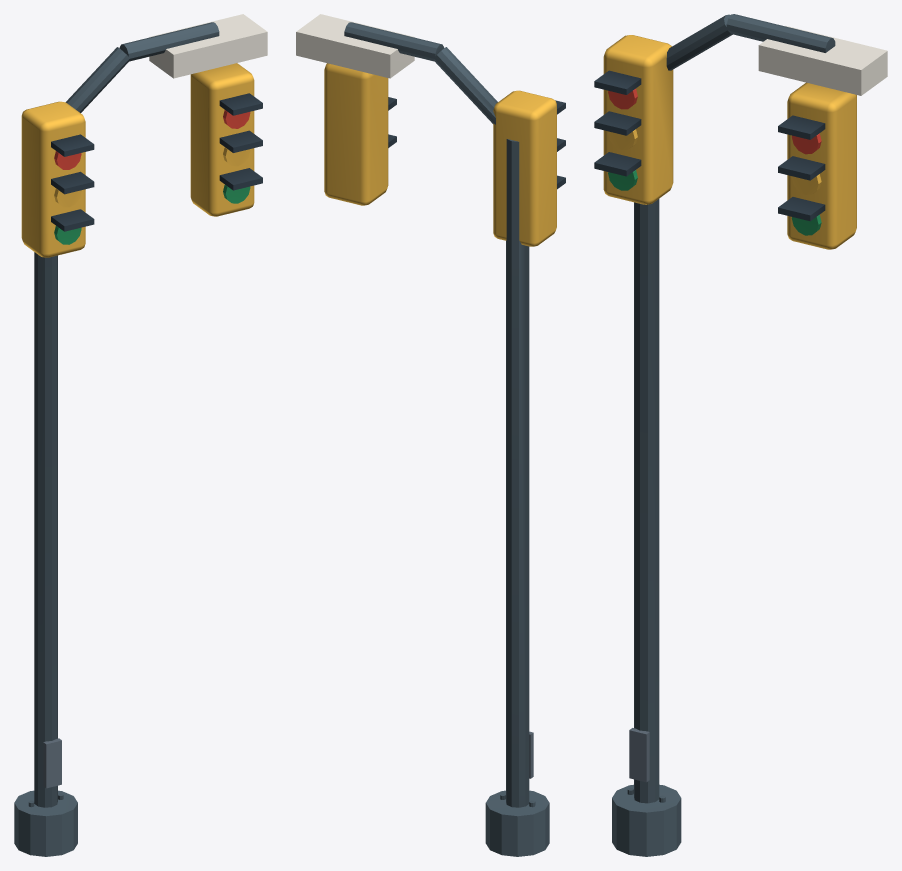
Rendered from traffic.glb.
3 renders of one model, left to right at view 1: azimuth 30°, elevation 25°; view 2: azimuth 150°, elevation 25°; view 3: azimuth 330°, elevation 25°, orthographic. The views are drawn at different scales.
Parts seen in each view (by area): view 1: foot, lamp diffuser, lamp housing, signal sun visor, maintenance hatch, lens, lens.002; view 2: foot, lamp diffuser, lamp housing; view 3: foot, lamp diffuser, lamp housing, signal sun visor, maintenance hatch, lens, lens.002.
Boxes of the visible parts, x1,y1,x2,y2 form: foot: (14,22,219,856); lamp diffuser: (21,63,254,257); lamp housing: (149,14,267,78); signal sun visor: (51,93,262,231); maintenance hatch: (43,738,61,788); lens: (54,185,250,244); lens.002: (54,110,250,169); foot: (344,22,549,856); lamp diffuser: (324,63,556,246); lamp housing: (296,14,414,78); foot: (612,14,835,856); lamp diffuser: (603,35,856,249); lamp housing: (758,26,887,95); signal sun visor: (594,70,825,221); maintenance hatch: (629,728,649,782); lens: (608,170,821,235); lens.002: (608,88,821,154).
Size of the model in its own units: 0.73 by 2.3 by 0.2625.
